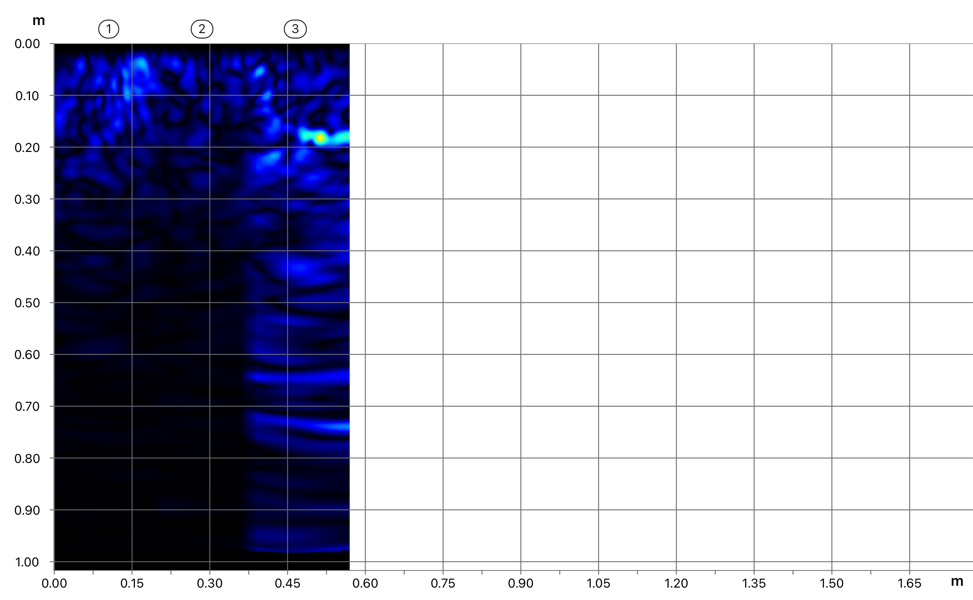crop: (1, 0, 351, 332)
